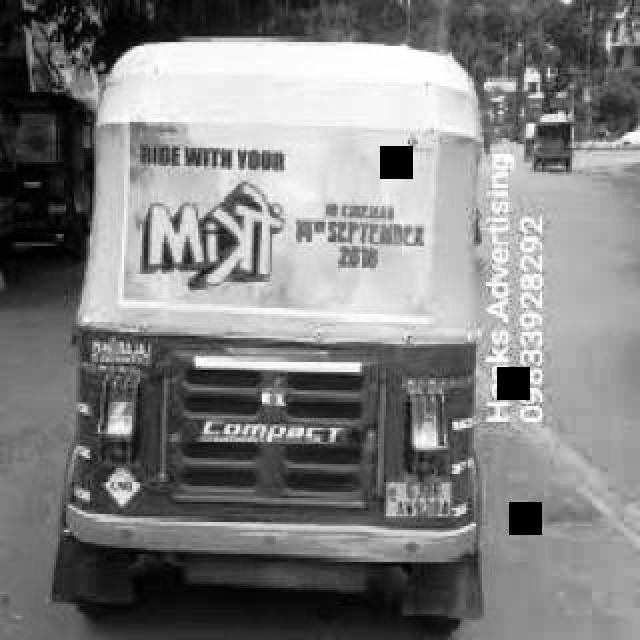Auto-Rickshaw: (72, 30, 490, 640)
